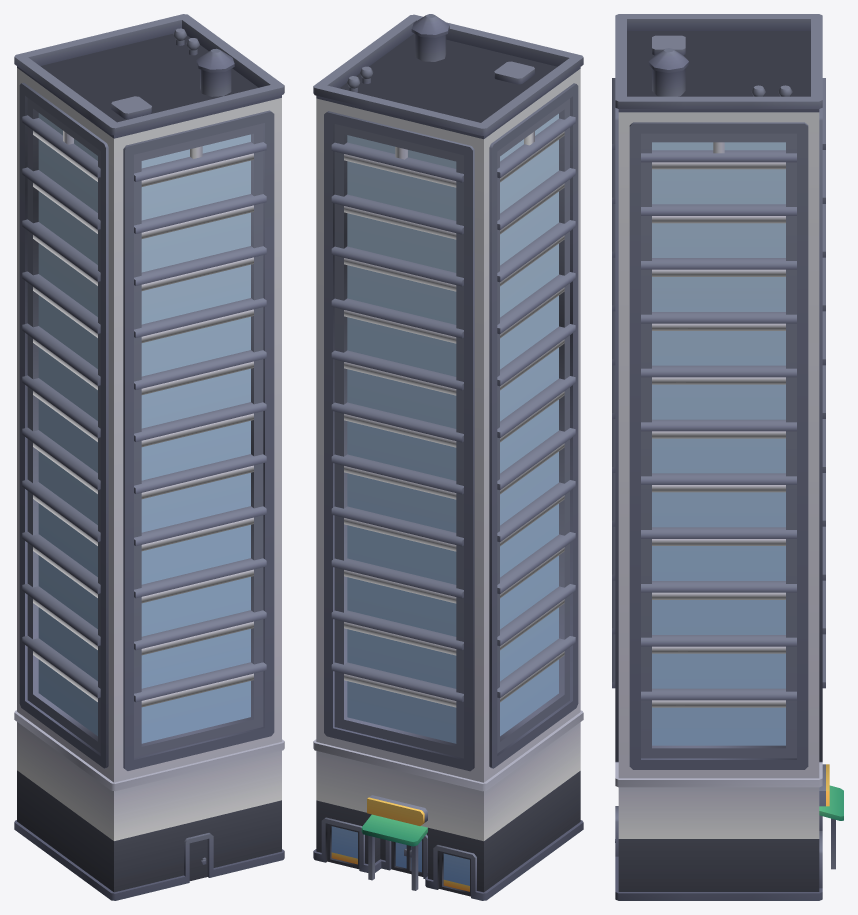
3 views of the same model, side by side, from view 1: azimuth 30°, elevation 25°; view 2: azimuth 150°, elevation 25°; view 3: azimuth 270°, elevation 25° (orthographic). The views are drawn at different scales.
Parts seen in each view (by area): view 1: building-skyscraper-d; view 2: building-skyscraper-d; view 3: building-skyscraper-d.
Boxes of the visible parts, x1,y1,x2,y2 form: building-skyscraper-d: (14, 14, 284, 900); building-skyscraper-d: (313, 14, 583, 900); building-skyscraper-d: (612, 14, 843, 900).
Bounding box in the file's own units: 11.88 × 50.77 × 12.88.
1 material, 1 textured.
